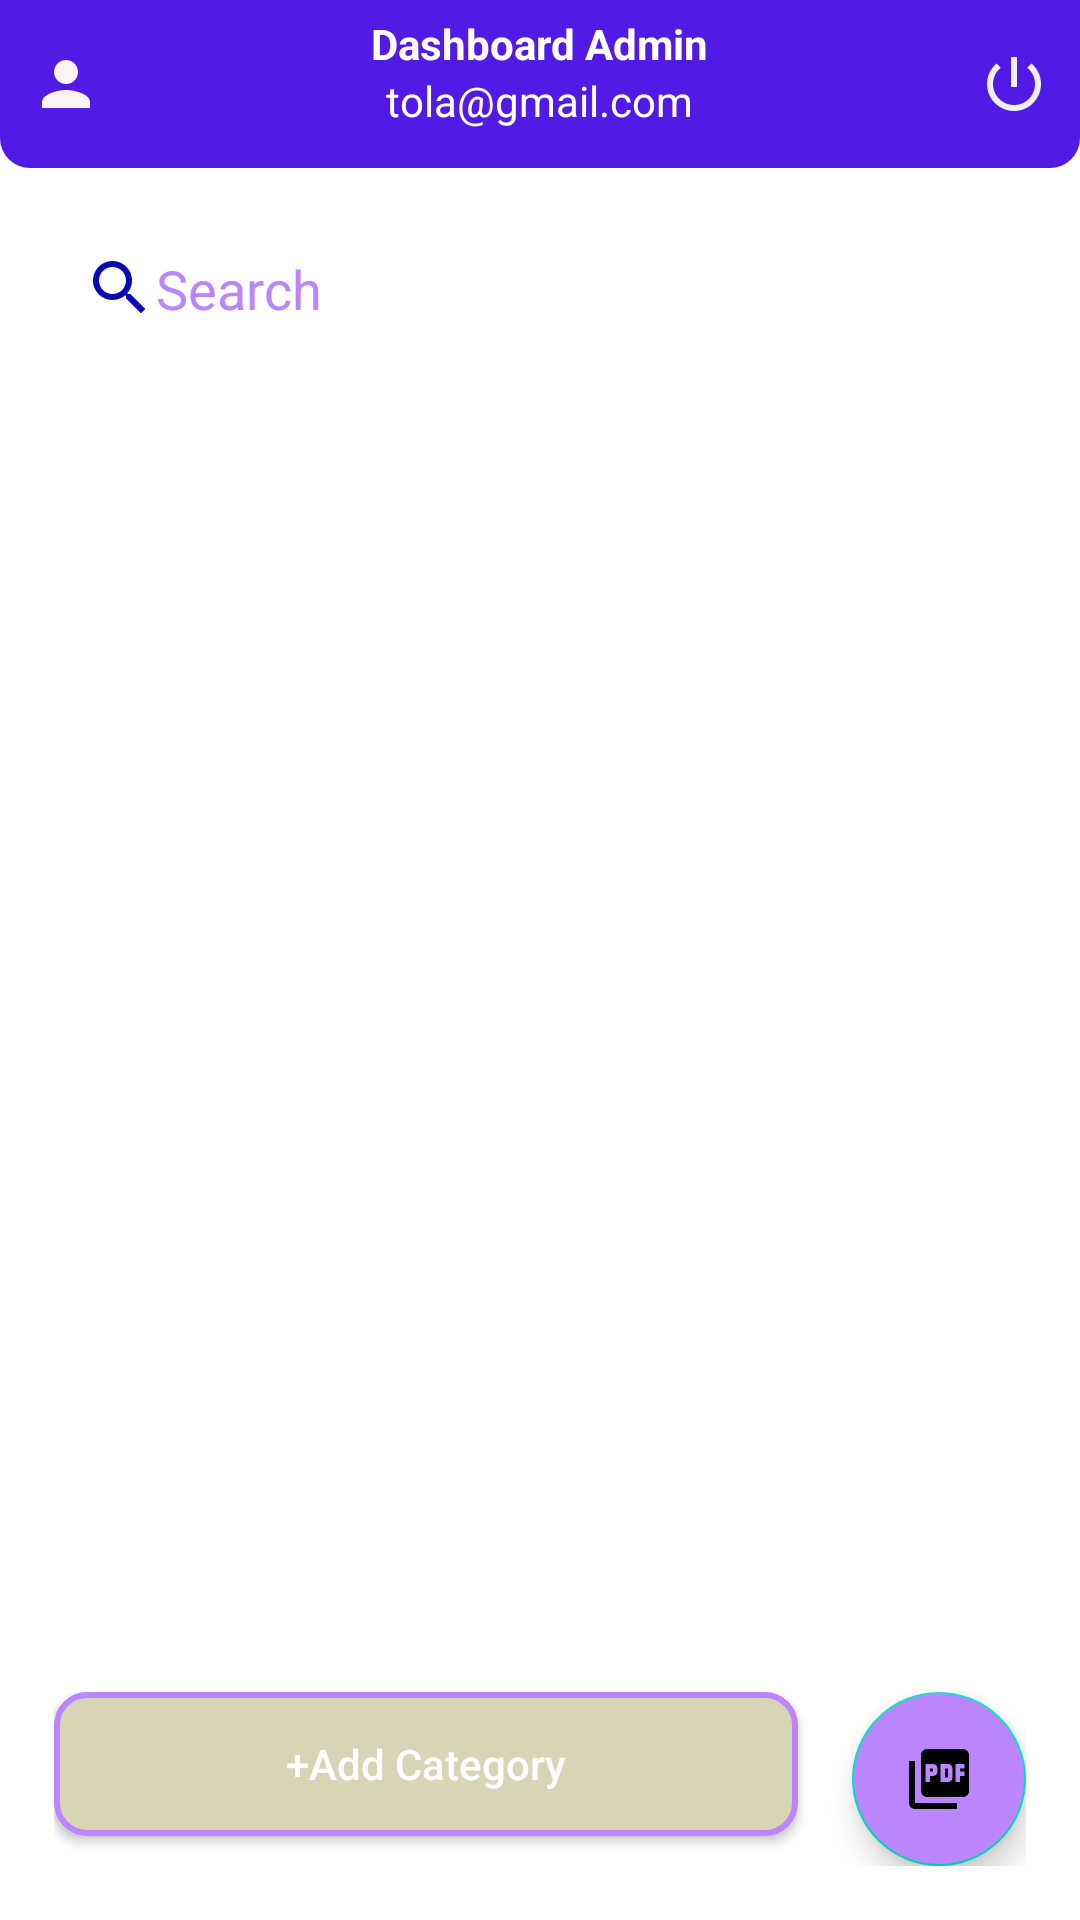

Screen size 1080*1920. Icon name, then its box in pixels as box=[x1, y1, x2, y2]:
lounch power: box=[987, 57, 1041, 111]
person: box=[42, 60, 90, 108]
